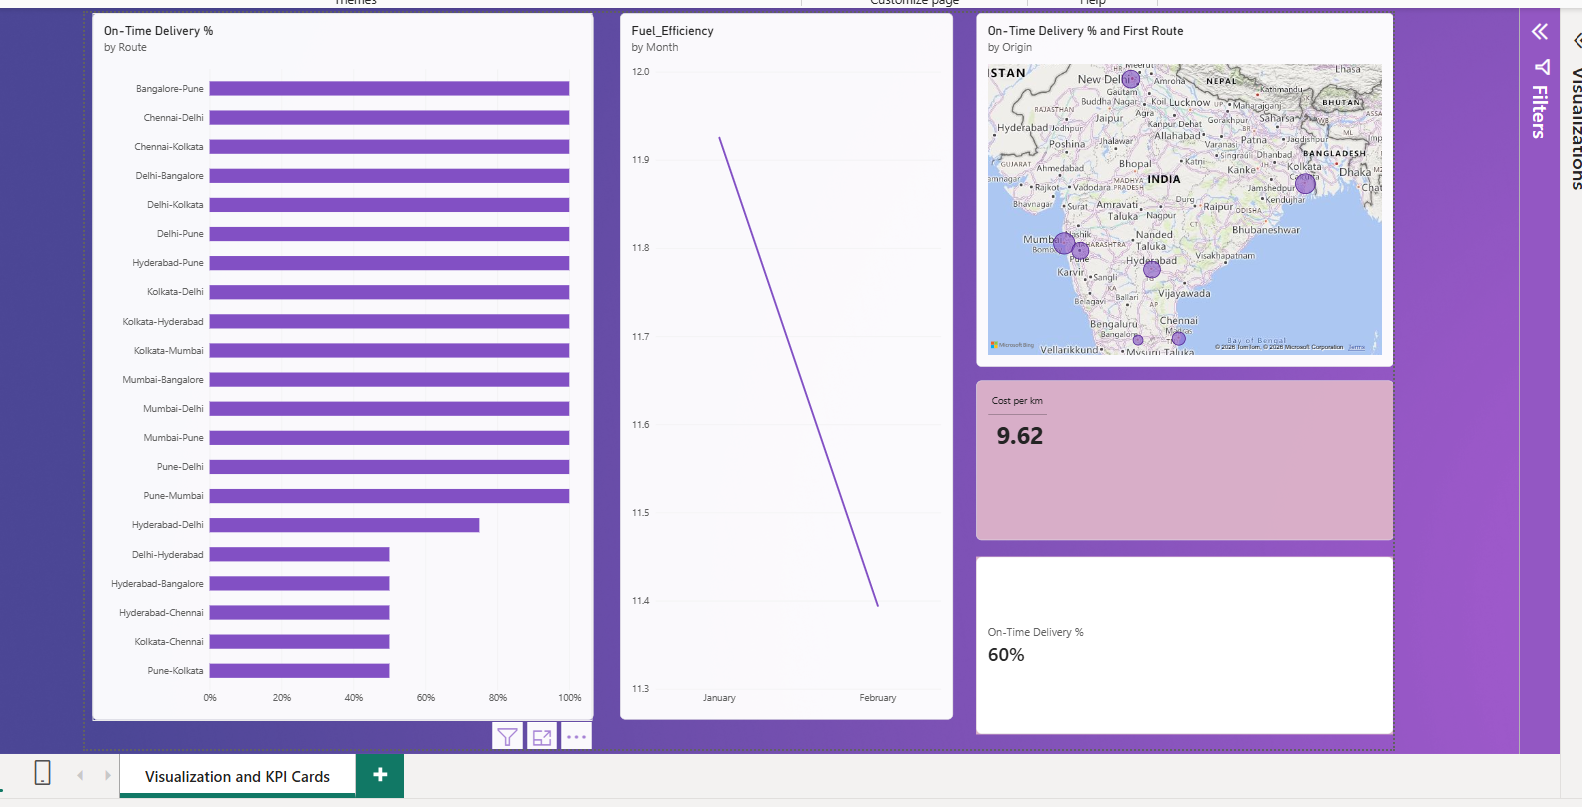

The page's visual inventory and layout, read from the dashboard file:
{"tool":"powerbi","page":{"name":"Visualization and KPI Cards","canvas":[1920,1080],"ordinal":0},"visuals":[{"type":"clusteredBarChart","fields":{"Category":["Trip Data new.Route"],"Y":["Table4.On-Time Delivery %"]},"box":[10.3,0,734.8,1037.4],"z":0},{"type":"lineChart","fields":{"Category":["Trip Data new.Delivery_Date.Variation.Date Hierarchy.Month"],"Y":["Table4.Fuel_Efficiency"]},"box":[785.4,0,488.6,1036.9],"z":1},{"type":"tableEx","fields":{"Values":["Table4.Cost per km"]},"box":[1307.8,539.3,612.6,234.8],"z":2},{"type":"cardVisual","fields":{"Data":["Table4.On-Time Delivery %"]},"box":[1307.8,797.9,612.6,260.5],"z":3},{"type":"map","fields":{"Category":["Trip Data new.Origin"],"Size":["Table4.On-Time Delivery %"]},"box":[1307.8,0,612.6,519.1],"z":4}]}

Visuals, with their boxes on the page's 1920x1080 design canvas (x1, y1, x2, y2). These are canvas units, not pixel positions in the 1582x807 screenshot, which may show the page scaled, cropped or inside an application window:
clusteredBarChart - Trip Data new.Route x Table4.On-Time Delivery %: [10, 0, 745, 1037]
lineChart - Trip Data new.Delivery_Date.Variation.Date Hierarchy.Month x Table4.Fuel_Efficiency: [785, 0, 1274, 1037]
tableEx - Table4.Cost per km: [1308, 539, 1920, 774]
cardVisual - Table4.On-Time Delivery %: [1308, 798, 1920, 1058]
map - Trip Data new.Origin x Table4.On-Time Delivery %: [1308, 0, 1920, 519]
